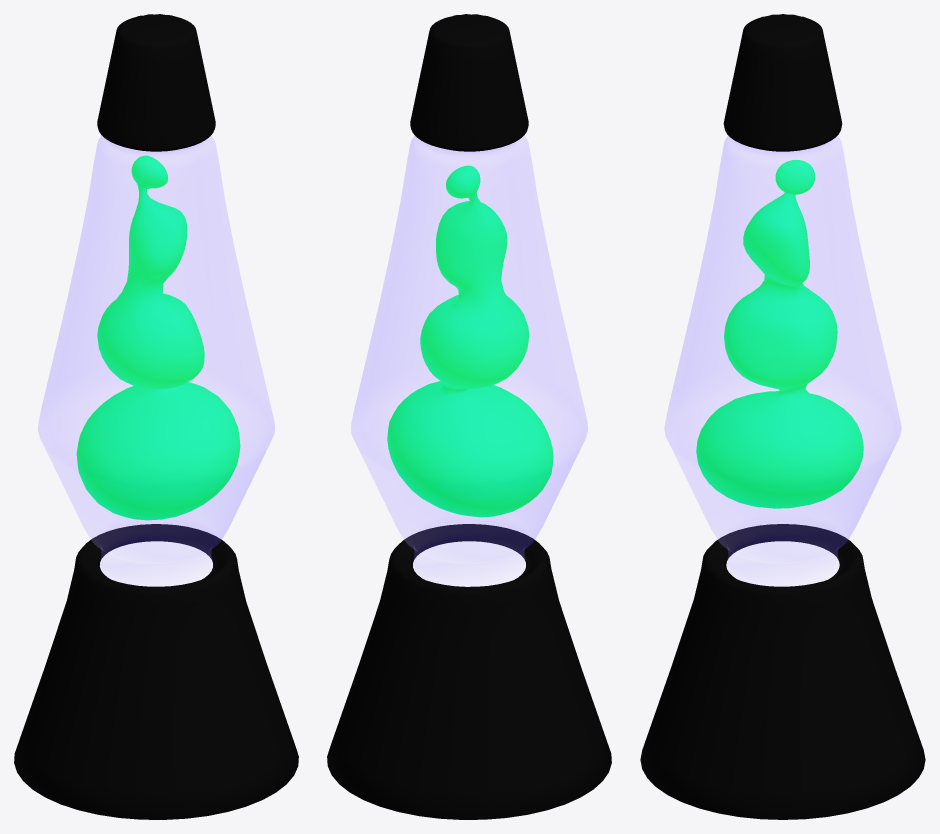
File: lava_lamp.glb
3 views of the same model, side by side, from view 1: azimuth 30°, elevation 25°; view 2: azimuth 150°, elevation 25°; view 3: azimuth 270°, elevation 25° (orthographic).
Visible parts, largest first — view 1: pCylinder1, LAVAMESH; view 2: pCylinder1, LAVAMESH; view 3: pCylinder1, LAVAMESH.
Part boxes in pixels (x1,y1,x2,y2): pCylinder1: [14, 14, 298, 819]; LAVAMESH: [76, 155, 240, 520]; pCylinder1: [327, 14, 611, 819]; LAVAMESH: [387, 165, 553, 517]; pCylinder1: [640, 14, 925, 819]; LAVAMESH: [696, 159, 863, 508].
Size of the model in its own units: 2.95 by 8.4 by 2.95.
